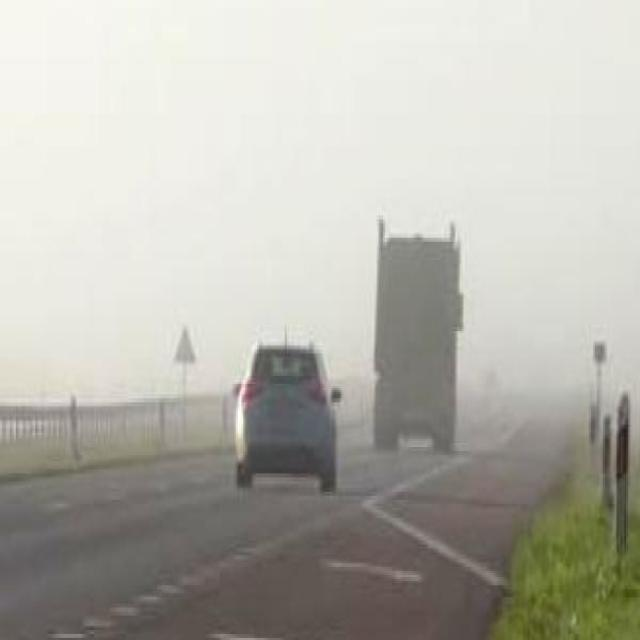bus: (372, 211, 462, 455)
car: (230, 341, 342, 490)
